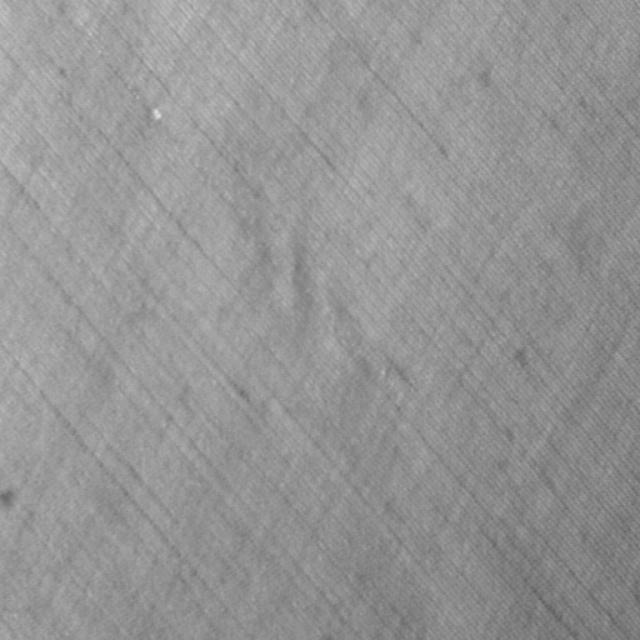hole: (150, 102, 162, 124)
